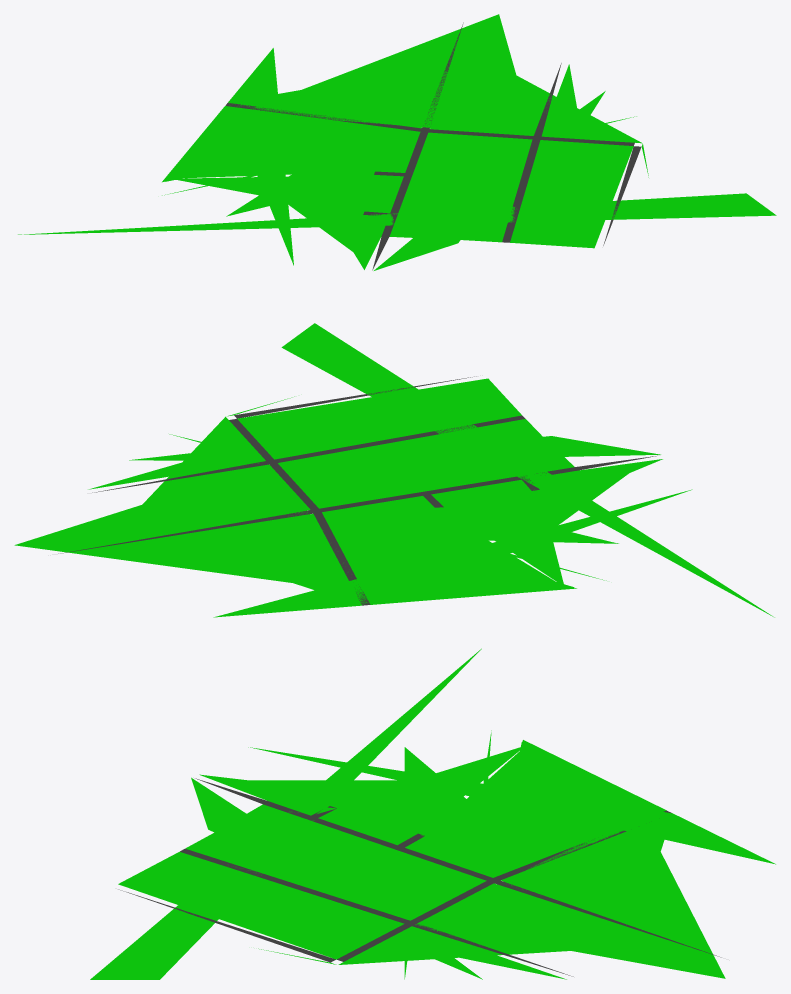
3 views of the same model, one above another, from view 1: azimuth 30°, elevation 25°; view 2: azimuth 150°, elevation 25°; view 3: azimuth 270°, elevation 25° (orthographic). The views are drawn at different scales.
Bounding box in the file's own units: 300 × 0 × 291.
